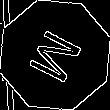M_SE: (22, 23, 88, 87)
